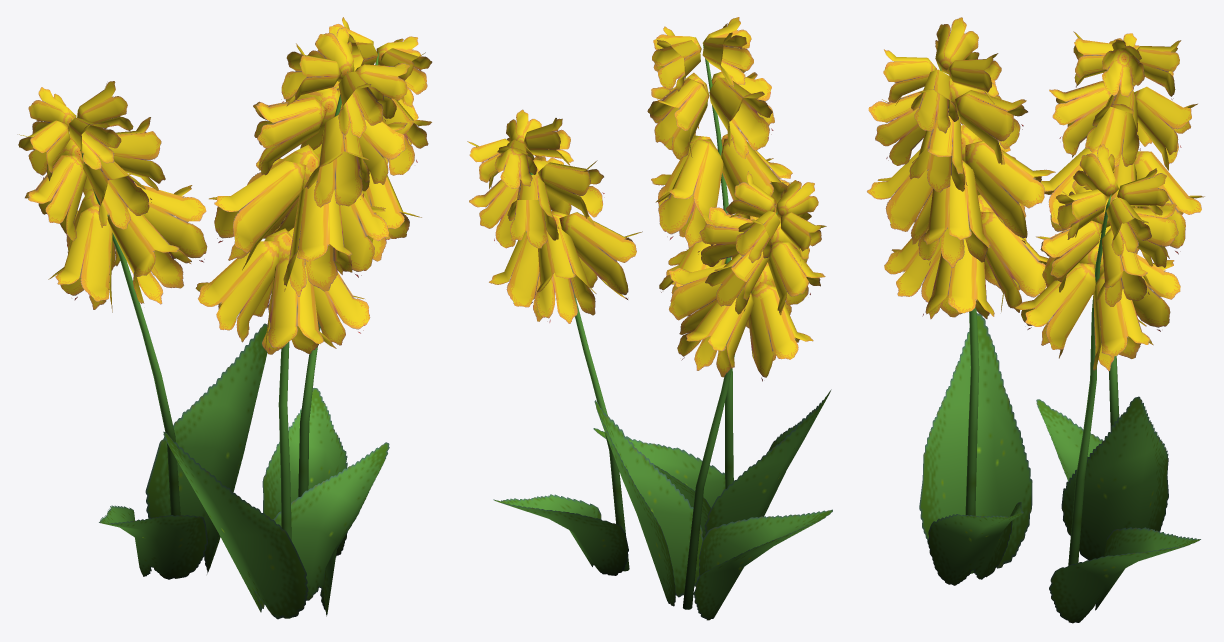
Rendered from Flower_4_Group.glb.
3 renders of one model, left to right at view 1: azimuth 30°, elevation 25°; view 2: azimuth 150°, elevation 25°; view 3: azimuth 270°, elevation 25°, orthographic. The views are drawn at different scales.
Parts seen in each view (by area): view 1: Flower_4_Group; view 2: Flower_4_Group; view 3: Flower_4_Group.
Boxes of the visible parts, x1,y1,x2,y2 form: Flower_4_Group: (17, 17, 432, 619); Flower_4_Group: (467, 17, 832, 620); Flower_4_Group: (867, 17, 1204, 623).
Size of the model in its own units: 1.78 by 2.49 by 1.37.
Materials: 2 (2 with a texture image).
